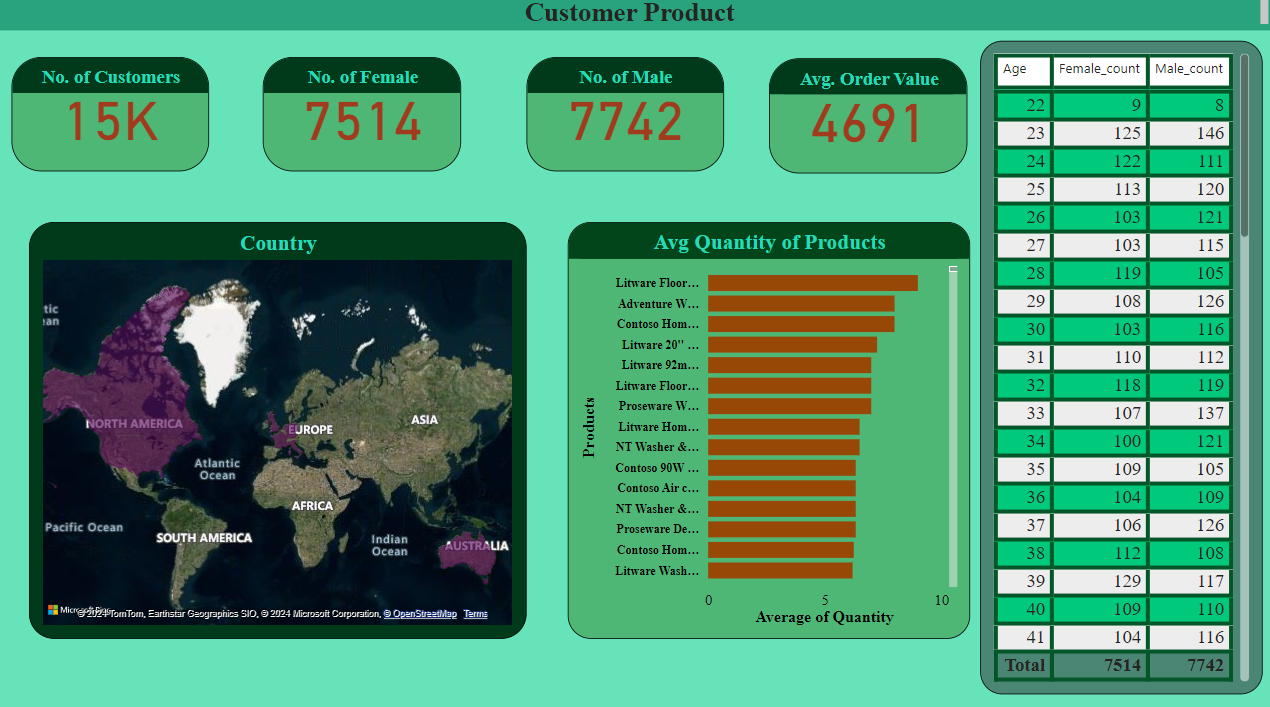

The page's visual inventory and layout, read from the dashboard file:
{"tool":"powerbi","page":{"name":"Customer ","canvas":[1280,720],"ordinal":0},"visuals":[{"type":"card","title":"No. of Customers","fields":{"Values":["dataspark customer.Customer_count"]},"box":[16.9,64.9,197.4,114.3],"z":0},{"type":"card","title":"No. of Female","fields":{"Values":["dataspark customer.Female_count"]},"box":[268.8,64.9,198.7,114.3],"z":1000},{"type":"card","title":"No. of Male","fields":{"Values":["dataspark customer.Male_count"]},"box":[532.5,64.9,197.4,114.3],"z":2000},{"type":"tableEx","fields":{"Values":["dataspark customer.Age","dataspark customer.Female_count","dataspark customer.Male_count"]},"box":[986.5,49.1,282.2,654],"z":3000},{"type":"filledMap","fields":{"Category":["dataspark customer.Country"]},"box":[35.1,229.9,497.4,416.9],"z":4000},{"type":"card","title":"Avg. Order Value","fields":{"Values":["dataspark sale.Avg Order Value"]},"box":[775.3,66.2,198.7,115.6],"z":5000},{"type":"clusteredBarChart","title":"Avg Quantity of Products ","fields":{"Category":["dataspark product.Product_Name"],"Y":["Avg(dataspark sale.Quantity)"]},"box":[574,229.9,402.6,416.9],"z":6000},{"type":"textbox","box":[0,0,1279.5,38.7],"z":7000}]}

Visuals, with their boxes in screenshot pixels (x1, y1, x2, y2), scaled from the page's 1280x720 canvas onto the 1270x707 screenshot:
"No. of Customers" card: detection(17, 64, 213, 176)
"No. of Female" card: detection(267, 64, 464, 176)
"No. of Male" card: detection(528, 64, 724, 176)
tableEx - dataspark customer.Age x dataspark customer.Female_count: detection(979, 48, 1259, 690)
filledMap - dataspark customer.Country: detection(35, 226, 528, 635)
"Avg. Order Value" card: detection(769, 65, 966, 179)
"Avg Quantity of Products " clusteredBarChart: detection(570, 226, 969, 635)
textbox: detection(0, 0, 1269, 38)
